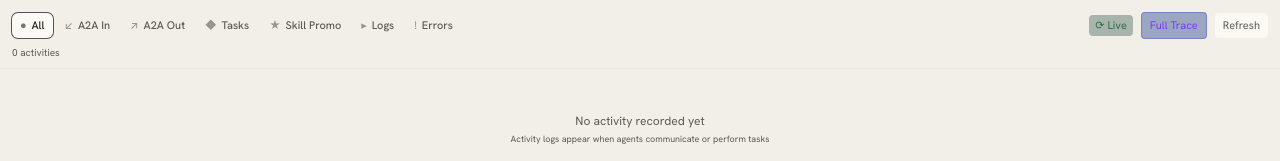
it: ActivityTab — auto-refresh toggle › clicking Live toggles to Paused
The width and height of the screenshot is (1280, 161).
Click the button "⟳ Live" at (1111, 25), box [1089, 15, 1133, 36]
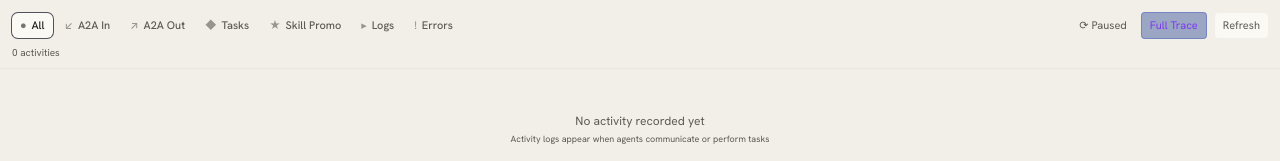
Expected: the button "⟳ Paused" is shown, [1073, 15, 1133, 36]
